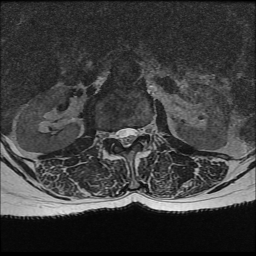CCS_normal: (123, 120, 130, 154)
LFS_normal: (138, 118, 146, 143)
LLS_normal: (130, 120, 138, 147)
RFS_normal: (107, 123, 116, 145)
RLS_normal: (116, 121, 123, 147)
